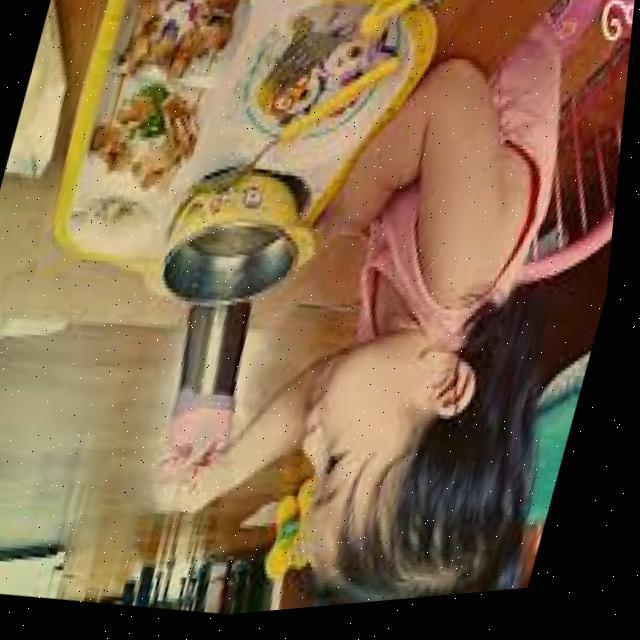eating-person: (133, 0, 637, 627)
